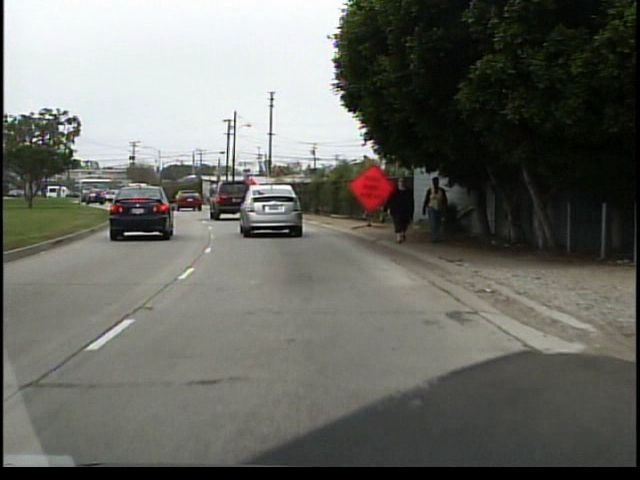person: (379, 171, 418, 250), (419, 176, 449, 247)
